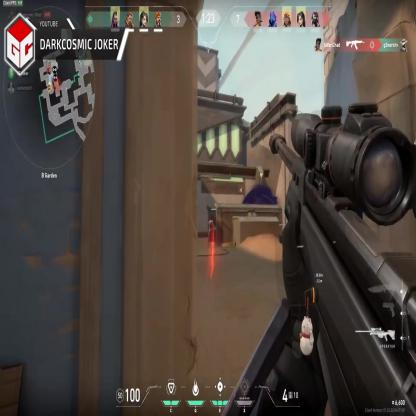enemy: (208, 218, 214, 245)
enemy_head: (209, 218, 212, 224)
